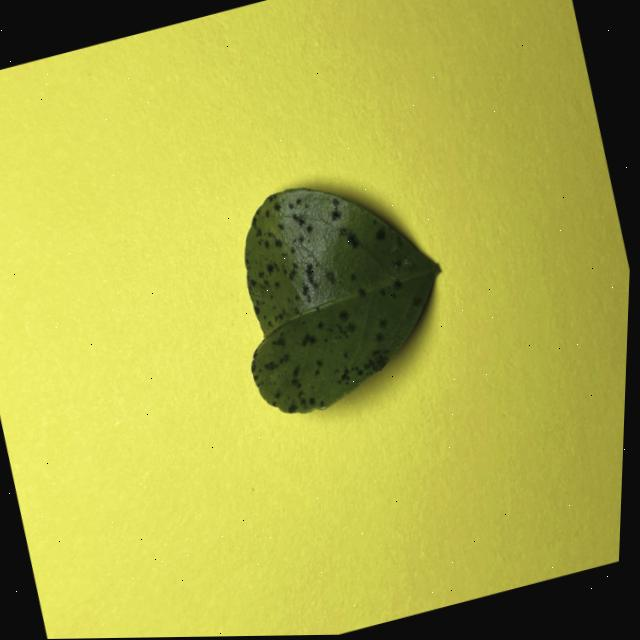sooty_mold: (243, 188, 438, 413)
